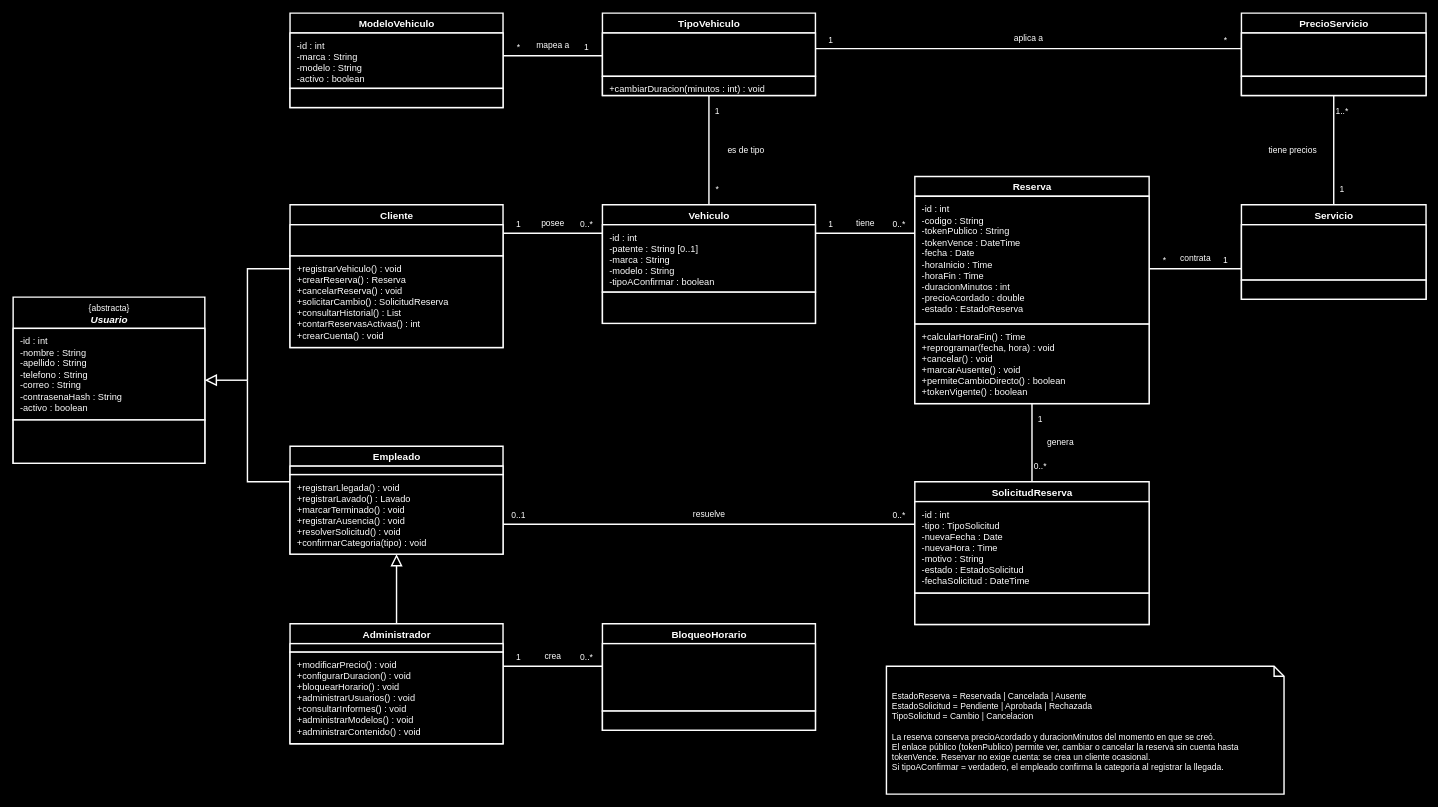
Image size: 1438x807. Some labels were removed from this diagram. Here are the shapes that lost their labels. From the top down, the centre of each, then its label:
At (x=708, y=54): "-id : int -nombre : String -duracionMinutos : int".
At (x=1333, y=54): "-id : int -precio : double -vigenteDesde : Date".
At (x=396, y=97): "+desactivar() : void".
At (x=1333, y=85): "+modificarPrecio(nuevo) : void".
At (x=396, y=240): "-esOcasional : boolean -identidadVerificada : boolean".
At (x=1333, y=252): "-id : int -nombre : String -descripcion : String -activo : boolean".
At (x=708, y=307): "+obtenerDuracion() : int +confirmarTipo(tipo) : void".
At (x=1333, y=289): "+obtenerPrecio(tipo) : double".
At (x=108, y=441): "+iniciarSesion() : boolean +cerrarSesion() : void +desactivar() : void".
At (x=1031, y=608): "+aprobar() : void +rechazar() : void".
At (x=708, y=677): "-id : int -fecha : Date -horaInicio : Time -horaFin : Time -motivo : String".
At (x=708, y=720): "+afectaA(fecha, hora) : boolean".
